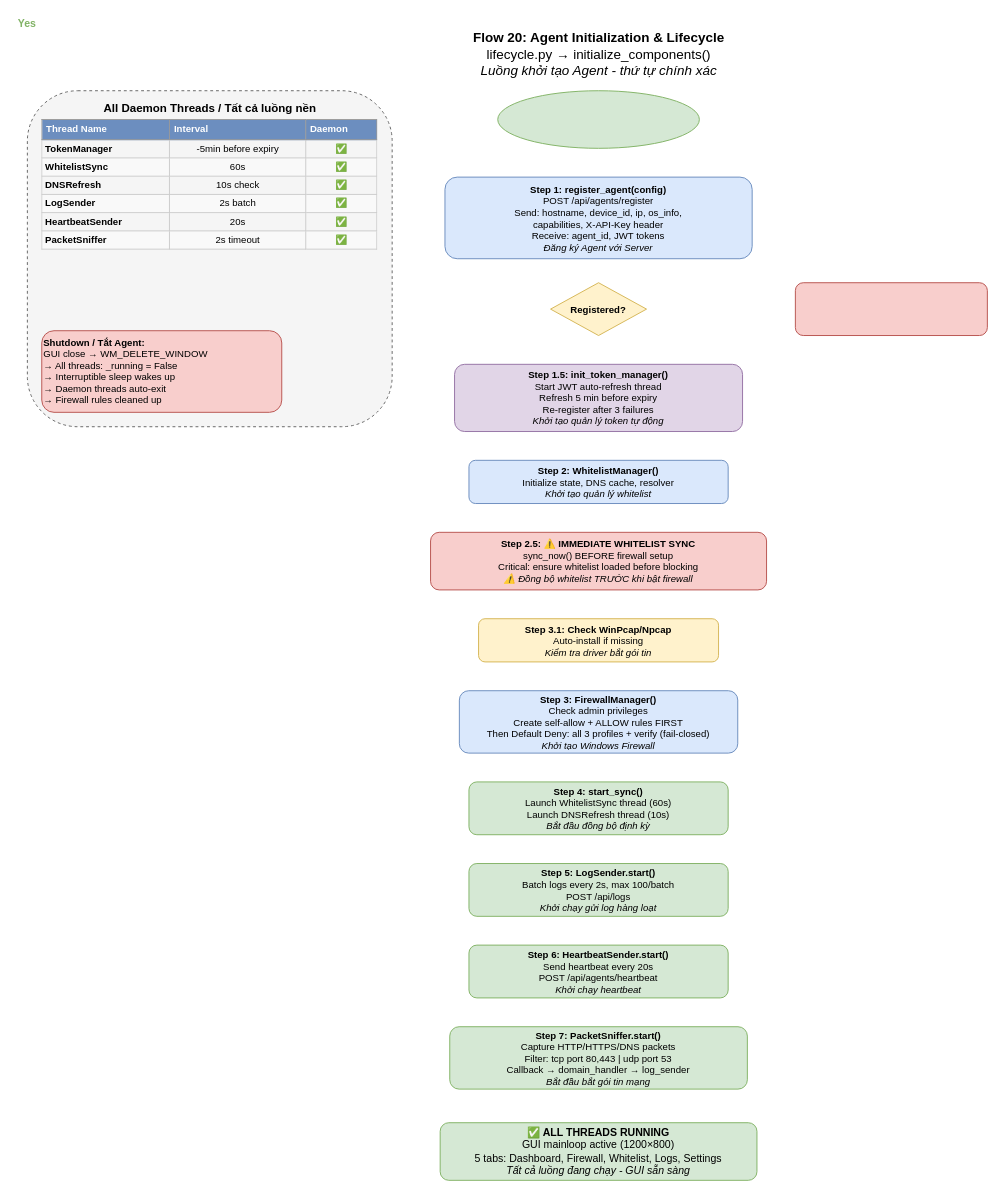
The diagram is 1004 pixels wide and 1197 high, and some of its shapes have lost their labels. The centre of each missing label's shape, as x and y in pixels:
agent_gui.py → main() User double-clicks SAINT.exe Khởi chạy Agent: the point at 598,119
FATAL ERROR Cannot connect to server Show error in GUI Không kết nối được Server: the point at 890,309
